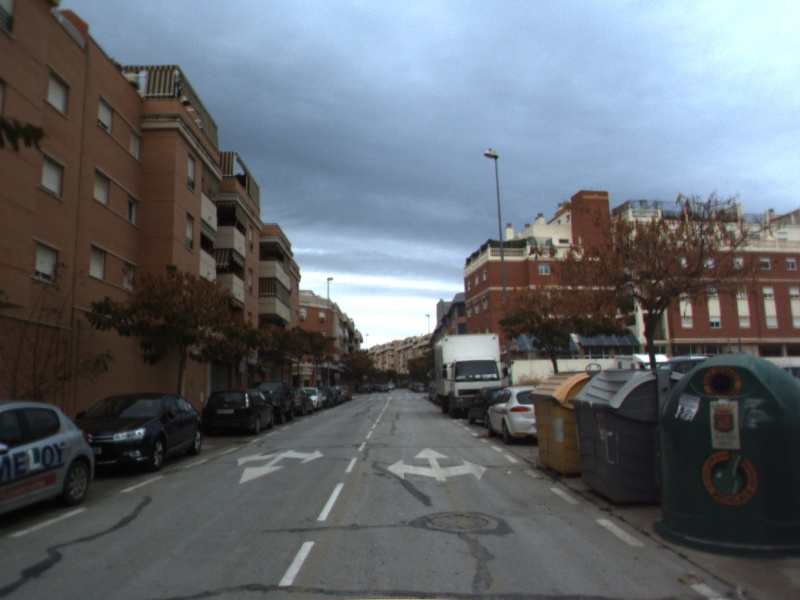STRAIGHT_LEFT_RIGHT: (385, 445, 489, 484)
